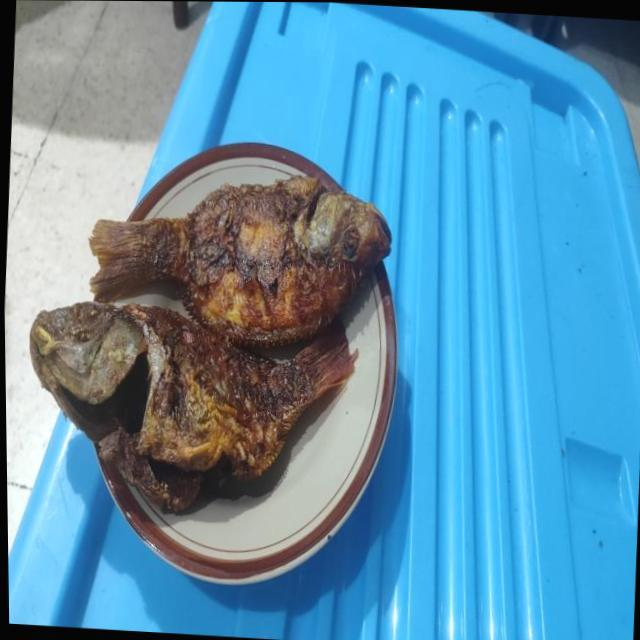ikan_mujair: (30, 303, 358, 512), (90, 175, 391, 346)
